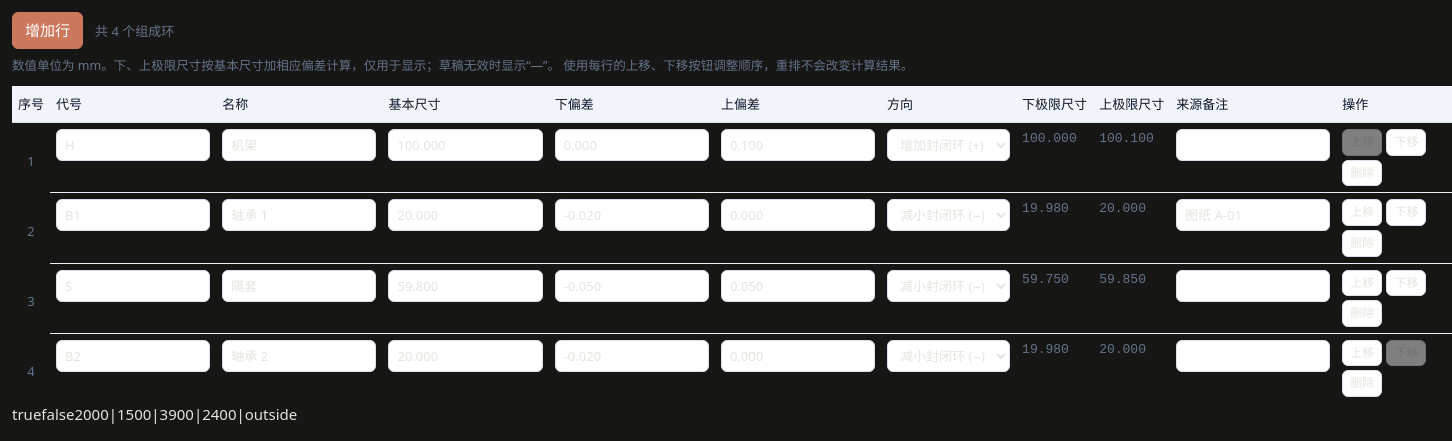
DimensionTable：字段与只读极限尺寸 › 删除行后按新执行顺序计算，并清除关系确认
Step 1. Click the button with aria-label "删除 B1" → x=1362, y=243, box [1342,230,1382,256]
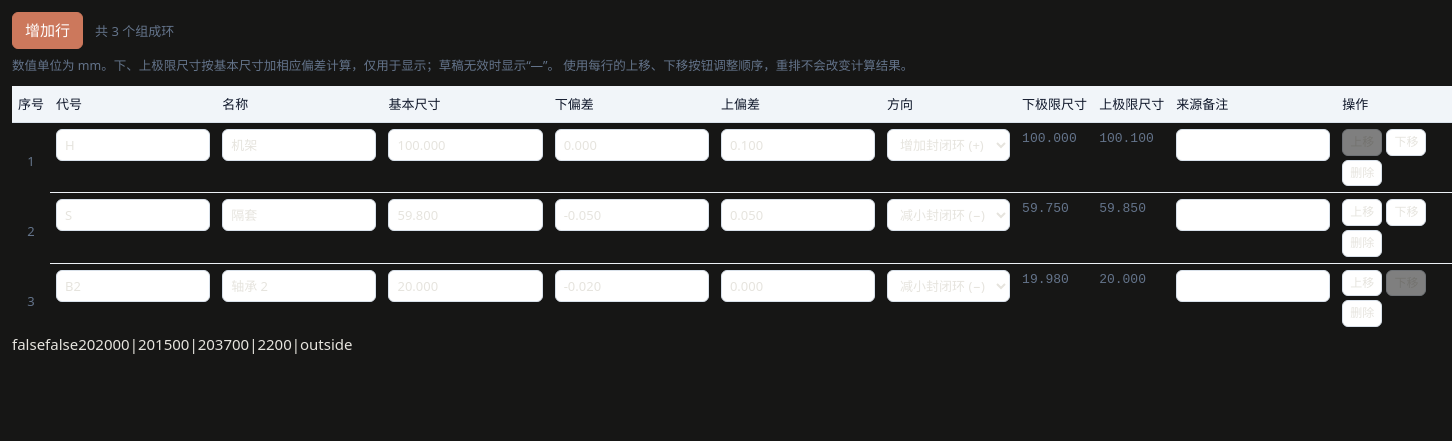
Expected: the text with test id "stale" reads "false", [45,334,78,354]
Expected: the text with test id "relation-confirmed" reads "false", [12,334,45,354]
